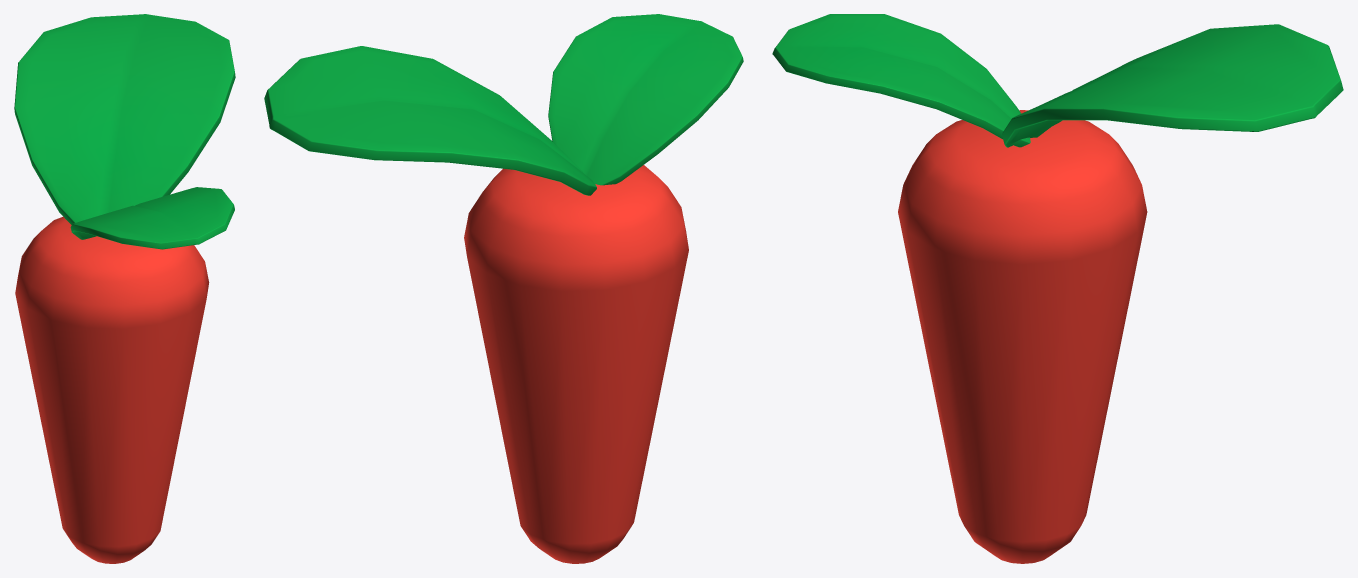
Rendered from Store_10_Beet_1.glb.
The picture shows the model from 3 angles, left to right: view 1: azimuth 30°, elevation 25°; view 2: azimuth 150°, elevation 25°; view 3: azimuth 270°, elevation 25°; orthographic projection. The views are drawn at different scales.
Visible parts, largest first — view 1: Store_10_Beet_1; view 2: Store_10_Beet_1; view 3: Store_10_Beet_1.
Boxes of the visible parts, left/top/right/bottom form: Store_10_Beet_1: left=14, top=14, right=235, bottom=563; Store_10_Beet_1: left=264, top=14, right=743, bottom=563; Store_10_Beet_1: left=772, top=14, right=1343, bottom=563.
Size of the model in its own units: 0.2356 by 0.3679 by 0.3461.
1 material, 1 textured.
